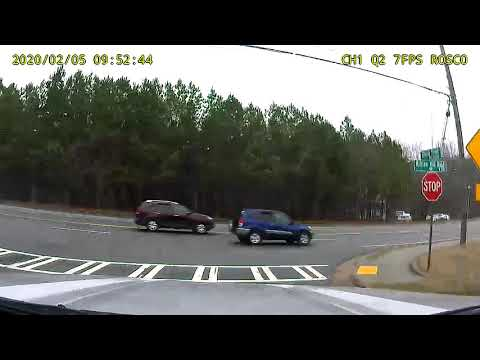StopSign: (421, 171, 442, 200)
